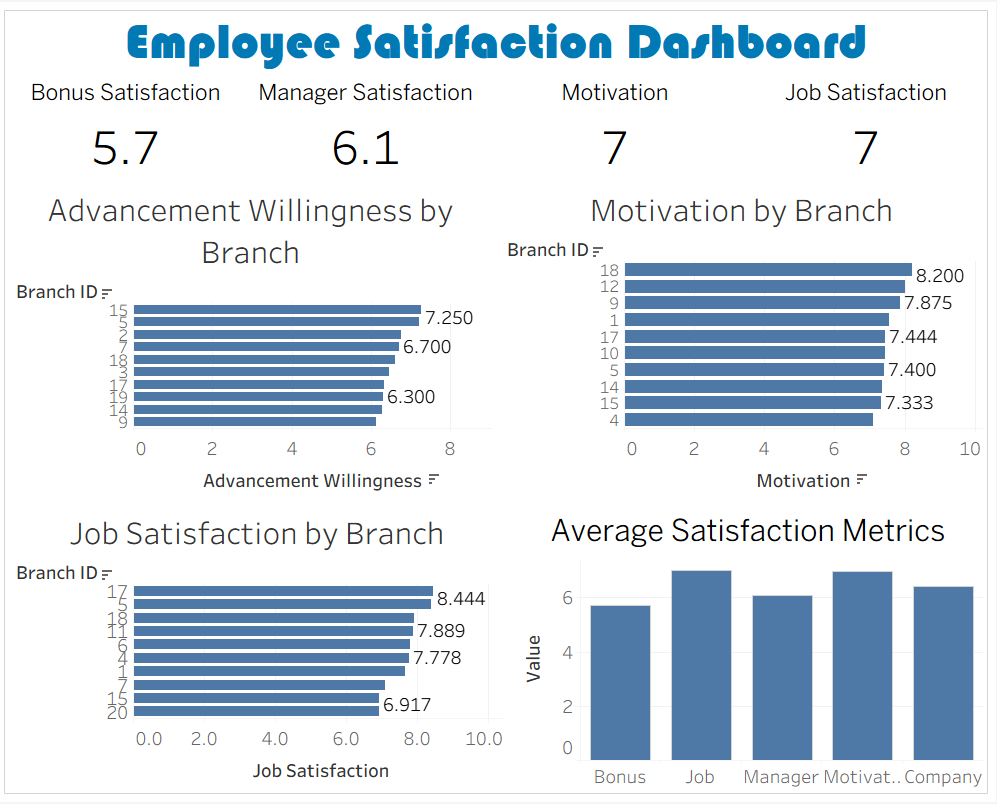

The page's visual inventory and layout, read from the dashboard file:
{"tool":"tableau","page":{"name":"Employee Satisfaction Dashboard","canvas":[1000,800],"ordinal":0},"visuals":[{"type":"text","box":[9,9,982,62]},{"type":"text","box":[9,71,241.5,38.4]},{"type":"text","box":[250.5,71,238.5,38.4]},{"type":"text","box":[489,71,260.4,38.4]},{"type":"text","box":[749.5,71,241.5,38.5]},{"type":"text","box":[9,109.4,241.5,68.6]},{"type":"text","box":[250.5,109.4,238.5,68.6]},{"type":"text","box":[489,109.4,260.4,68.6]},{"type":"text","box":[749.5,109.5,241.5,68.5]},{"type":"worksheet","title":"Advancement Willingness by Branch","mark":"Automatic","rows":["BranchID (BRANCHES)"],"cols":["AdvancementWillingness"],"box":[9,178,491,323]},{"type":"worksheet","title":"Motivation by Branch","mark":"Automatic","rows":["BranchID (BRANCHES)"],"cols":["Motivation"],"box":[500,178,491,323]},{"type":"worksheet","title":"Job Satisfaction by Branch","mark":"Automatic","rows":["BranchID (BRANCHES)"],"cols":["JobSatisfaction"],"box":[9,501,504,290]},{"type":"worksheet","title":"Employee Satisfaction Metrics","mark":"Automatic","box":[513,501,478,290]}]}

Visuals, with their boxes in screenshot pixels (x1, y1, x2, y2), scaled from the page's 1000x800 canvas onto the 997x804 screenshot:
text: 9 9 988 71
text: 9 71 250 110
text: 250 71 488 110
text: 488 71 747 110
text: 747 71 988 110
text: 9 110 250 179
text: 250 110 488 179
text: 488 110 747 179
text: 747 110 988 179
"Advancement Willingness by Branch" worksheet: 9 179 498 504
"Motivation by Branch" worksheet: 498 179 988 504
"Job Satisfaction by Branch" worksheet: 9 504 511 795
"Employee Satisfaction Metrics" worksheet: 511 504 988 795
